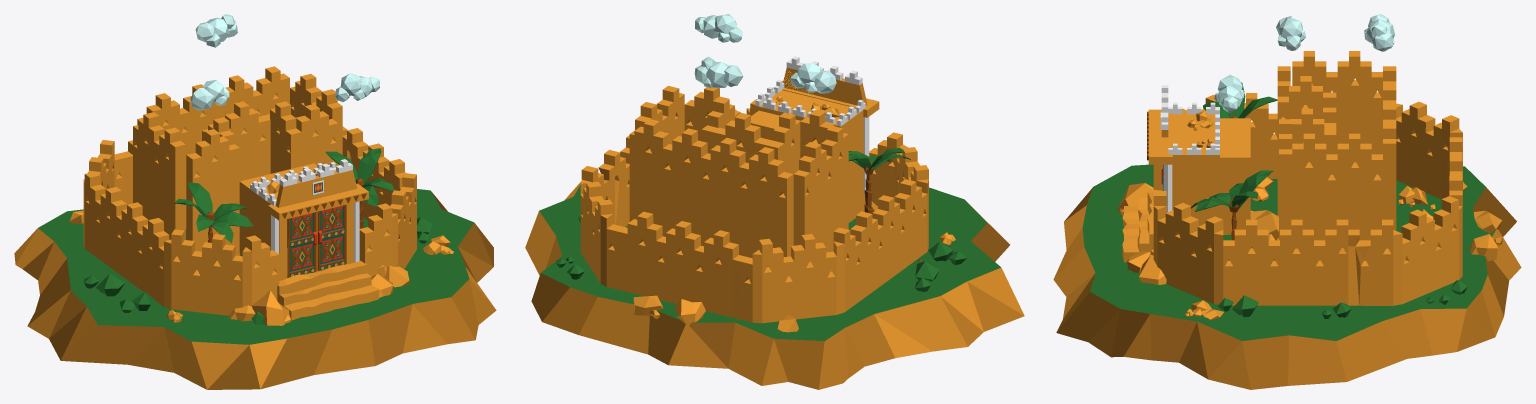
The model's file is historic_Diriyah.obj.
3 renders of one model, left to right at view 1: azimuth 30°, elevation 25°; view 2: azimuth 150°, elevation 25°; view 3: azimuth 270°, elevation 25°, orthographic. The views are drawn at different scales.
Parts seen in each view (by area): view 1: Madain_Saleh1:polySurface3045 Madain_Saleh1:group25, group6 pCube69, pCube83, pSphere88, group6 pCube27, Cloud_4, polySurface38, polySurface45, pSphere72 group6, group6 pCube72, group6 pCube4; view 2: Madain_Saleh1:polySurface3045 Madain_Saleh1:group25, group6 pCube69, pCube83, pSphere88, Cloud_4, polySurface45, polySurface38, Madain_Saleh1:group29 pSphere82, Madain_Saleh1:group29 pSphere72; view 3: Madain_Saleh1:polySurface3045 Madain_Saleh1:group25, group6 pCube69, pCube83, pSphere88, group6 pCube27, Cloud_4, polySurface38, polySurface45, Madain_Saleh1:group29 pSphere72, Madain_Saleh1:group29 Madain_Saleh1:pSphere74, Madain_Saleh1:group29 pSphere71, pSphere72 group6 (+2 smaller).
Part boxes in pixels (x1,y1,x2,y2): Madain_Saleh1:polySurface3045 Madain_Saleh1:group25: (14,189,496,389); group6 pCube69: (83,126,416,315); pCube83: (133,66,342,270); pSphere88: (239,159,368,280); group6 pCube27: (277,261,378,320); Cloud_4: (195,14,237,47); polySurface38: (335,73,379,101); polySurface45: (190,80,229,110); pSphere72 group6: (252,290,289,325); group6 pCube72: (357,148,381,183); group6 pCube4: (188,182,212,215); Madain_Saleh1:polySurface3045 Madain_Saleh1:group25: (525,182,1024,389); group6 pCube69: (580,99,928,323); pCube83: (629,85,848,276); pSphere88: (751,56,879,222); Cloud_4: (694,56,743,88); polySurface45: (790,63,836,93); polySurface38: (695,14,742,42); Madain_Saleh1:group29 pSphere82: (674,299,705,325); Madain_Saleh1:group29 pSphere72: (633,295,663,315); Madain_Saleh1:polySurface3045 Madain_Saleh1:group25: (1053,164,1521,389); group6 pCube69: (1153,93,1462,305); pCube83: (1277,51,1396,260); pSphere88: (1147,85,1250,234); group6 pCube27: (1122,188,1161,262); Cloud_4: (1364,14,1394,51); polySurface38: (1214,74,1244,112); polySurface45: (1276,16,1305,50); Madain_Saleh1:group29 pSphere72: (1469,234,1497,261); Madain_Saleh1:group29 Madain_Saleh1:pSphere74: (1250,210,1278,240); Madain_Saleh1:group29 pSphere71: (1139,255,1166,284); pSphere72 group6: (1117,183,1153,211).
Size of what is drawn, in the model's own units: 18.26 by 9.45 by 15.6.
